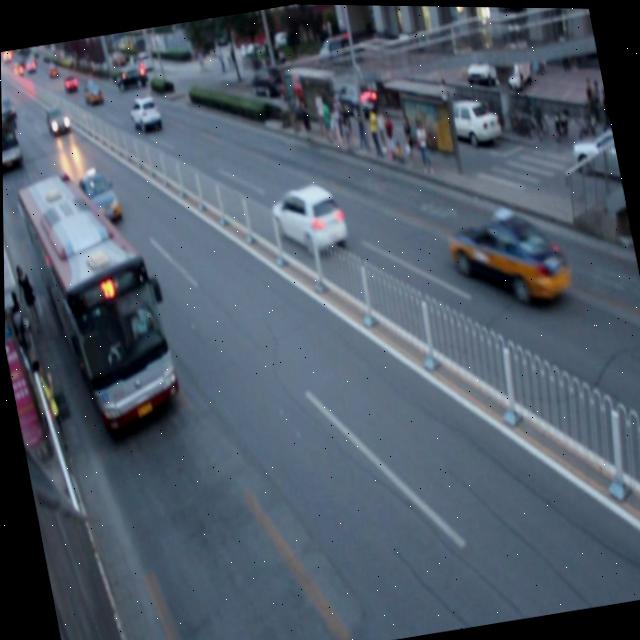car: (442, 196, 575, 318), (267, 177, 349, 261), (74, 165, 124, 229), (126, 91, 164, 137)
van: (13, 160, 182, 440)
